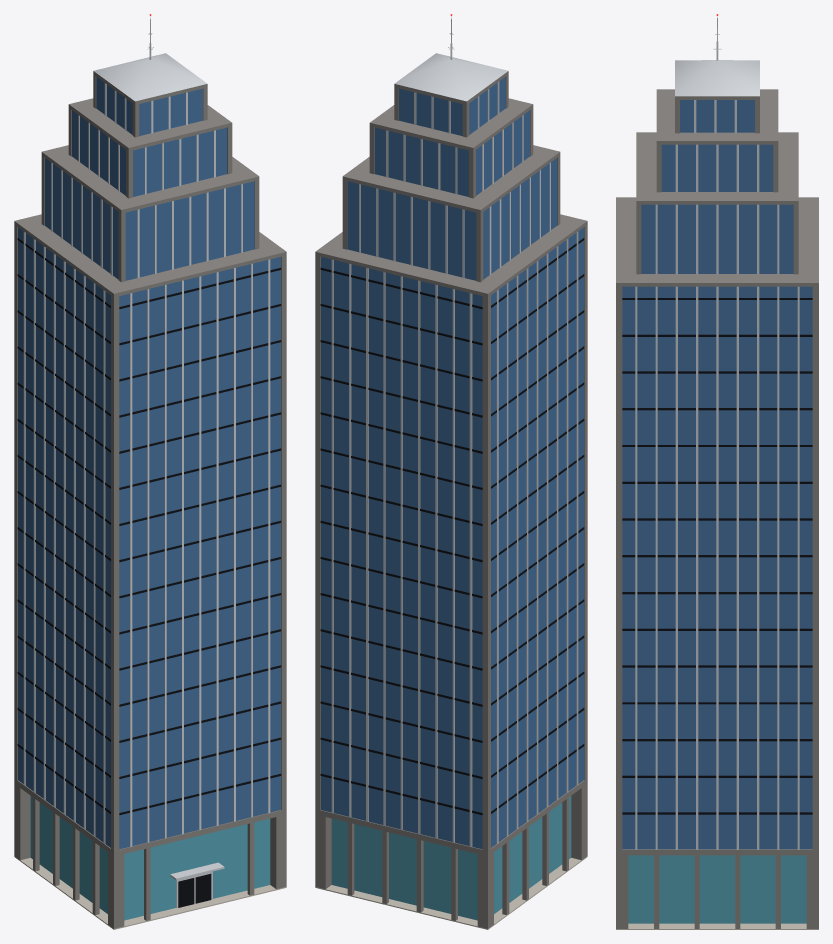
Rendered from building_tower.glb.
3 renders of one model, left to right at view 1: azimuth 30°, elevation 25°; view 2: azimuth 150°, elevation 25°; view 3: azimuth 270°, elevation 25°, orthographic.
Visible parts, largest first — view 1: body; view 2: body; view 3: body.
Boxes of the visible parts, box(x1,y1,x2,y2) form: body: box(14, 14, 286, 929); body: box(315, 14, 587, 929); body: box(616, 14, 818, 929).
Bounding box in the file's own units: 2000 × 9500 × 2000.
